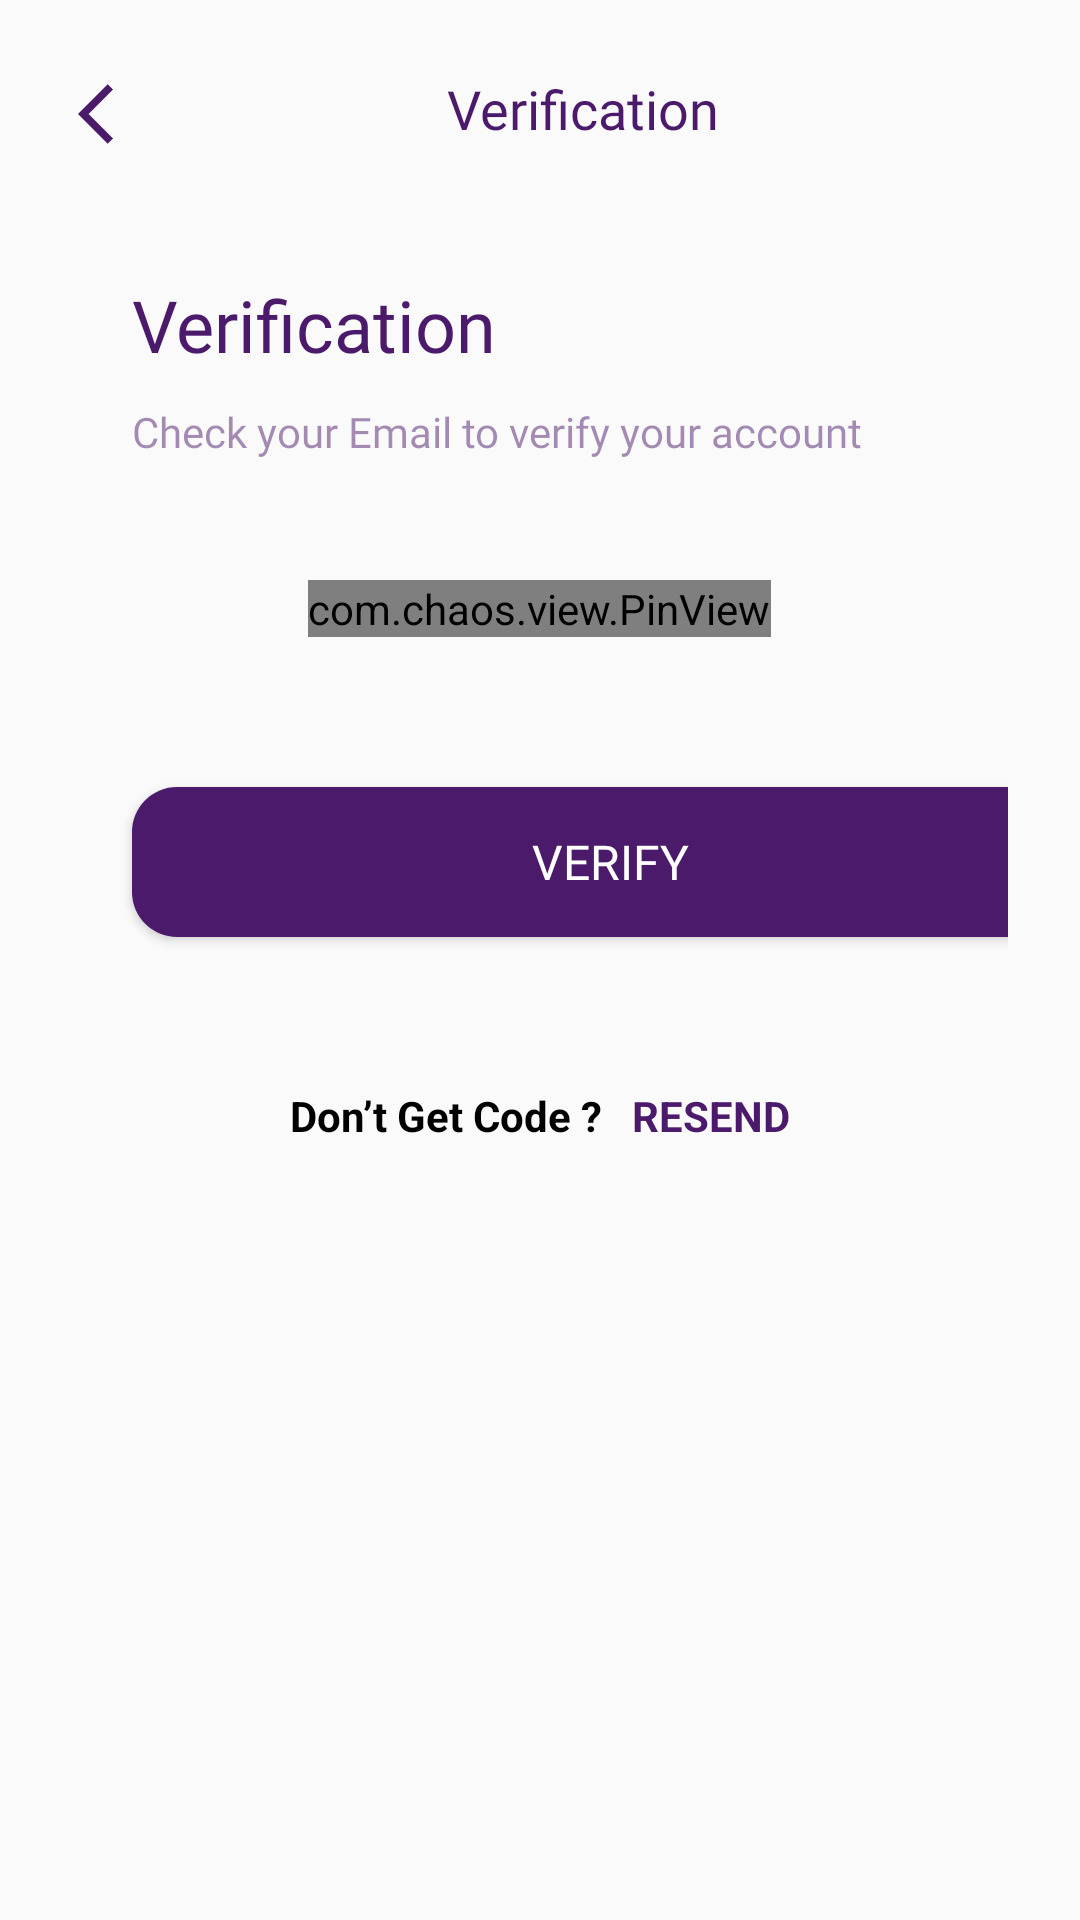

Where icons sit on this 1080 x 1920 app screen, as bbox=(x1, y1, x2, y2):
back arrow: bbox=(78, 84, 113, 144)
